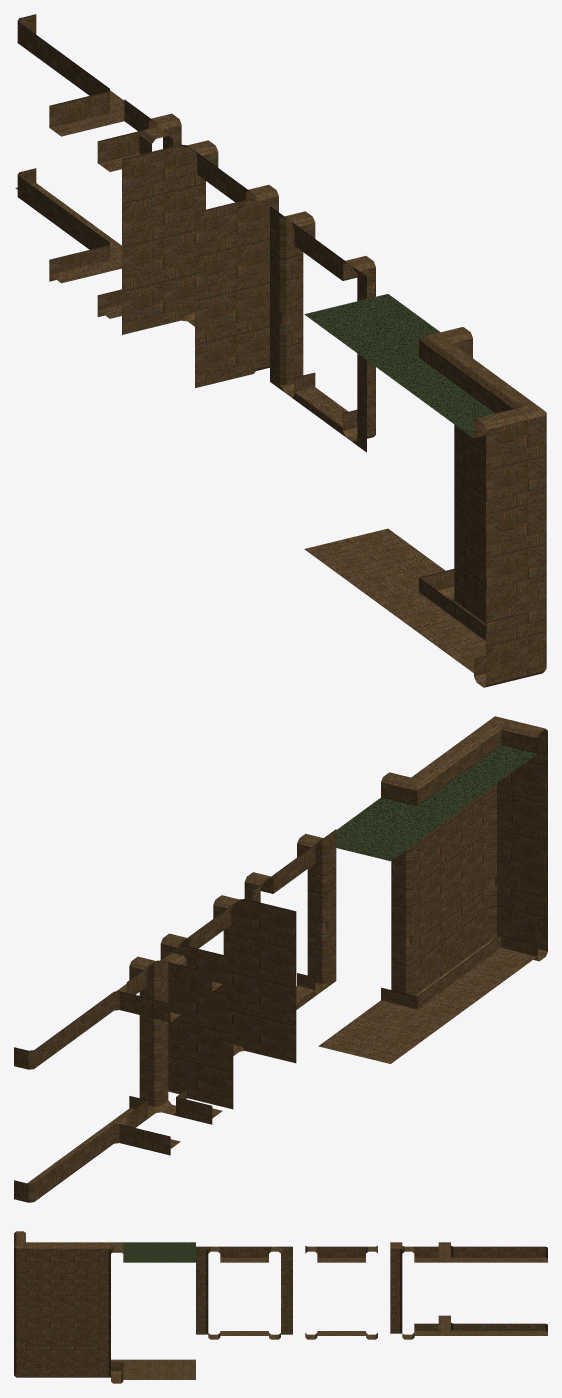
File: grass_brick_tiles.glb
3 views of the same model, one above another, from view 1: azimuth 30°, elevation 25°; view 2: azimuth 150°, elevation 25°; view 3: azimuth 270°, elevation 25° (orthographic). The views are drawn at different scales.
Parts seen in each view (by area): view 1: LE_IR-col, LE_IL-col, V_LE-col, I_LEL-col, I_LER-col, LE_V-col, LE_LE-col, I_V-col, LF_V-col, V_I-col, V_F-col, F_V-col (+12 smaller); view 2: LE_V-col, LE_LE-col, LE_IL-col, I_V-col, LF_V-col, I_LER-col, I_LEL-col, LE_IR-col, V_LE-col, LF_LE-col, V_LF-col, I_I-col (+12 smaller); view 3: V_I-col, I_I-col, I_V-col, V_LE-col, LE_LE-col, LE_V-col, LF_V-col, V_LF-col, LE_LF-col, I_LFL-col, I_LFR-col, V_F-col (+11 smaller).
Part boxes in pixels (left/top/right/bottom): LE_IR-col: left=122, top=140, right=221, bottom=246; LE_IL-col: left=195, top=170, right=278, bottom=300; V_LE-col: left=450, top=384, right=546, bottom=513; I_LEL-col: left=195, top=282, right=269, bottom=388; I_LER-col: left=122, top=229, right=194, bottom=334; LE_V-col: left=450, top=585, right=546, bottom=687; LE_LE-col: left=486, top=497, right=546, bottom=601; I_V-col: left=401, top=524, right=485, bottom=655; LF_V-col: left=353, top=517, right=464, bottom=619; V_I-col: left=401, top=349, right=508, bottom=451; V_F-col: left=304, top=294, right=435, bottom=349; F_V-col: left=304, top=528, right=435, bottom=584; LE_V-col: left=462, top=867, right=547, bottom=971; LE_LE-col: left=462, top=790, right=547, bottom=888; LE_IL-col: left=210, top=895, right=296, bottom=987; I_V-col: left=420, top=889, right=515, bottom=1002; LF_V-col: left=360, top=920, right=473, bottom=1033; I_LER-col: left=168, top=1019, right=233, bottom=1109; I_LEL-col: left=233, top=972, right=296, bottom=1063; LE_IR-col: left=160, top=921, right=233, bottom=1033; V_LE-col: left=462, top=716, right=547, bottom=812; LF_LE-col: left=108, top=1028, right=222, bottom=1127; V_LF-col: left=360, top=768, right=473, bottom=850; I_I-col: left=420, top=813, right=461, bottom=919; V_I-col: left=50, top=1242, right=98, bottom=1290; I_I-col: left=50, top=1290, right=98, bottom=1334; I_V-col: left=50, top=1334, right=98, bottom=1377; V_LE-col: left=14, top=1231, right=50, bottom=1290; LE_LE-col: left=14, top=1290, right=50, bottom=1334; LE_V-col: left=14, top=1334, right=50, bottom=1377; LF_V-col: left=99, top=1334, right=147, bottom=1383; V_LF-col: left=99, top=1242, right=147, bottom=1291; LE_LF-col: left=390, top=1242, right=438, bottom=1291; I_LFL-col: left=196, top=1246, right=244, bottom=1291; I_LFR-col: left=244, top=1246, right=292, bottom=1291; V_F-col: left=147, top=1242, right=195, bottom=1262.
Bounding box in the file's own units: 2 × 6 × 22.
Materials: 2 (2 with a texture image).
